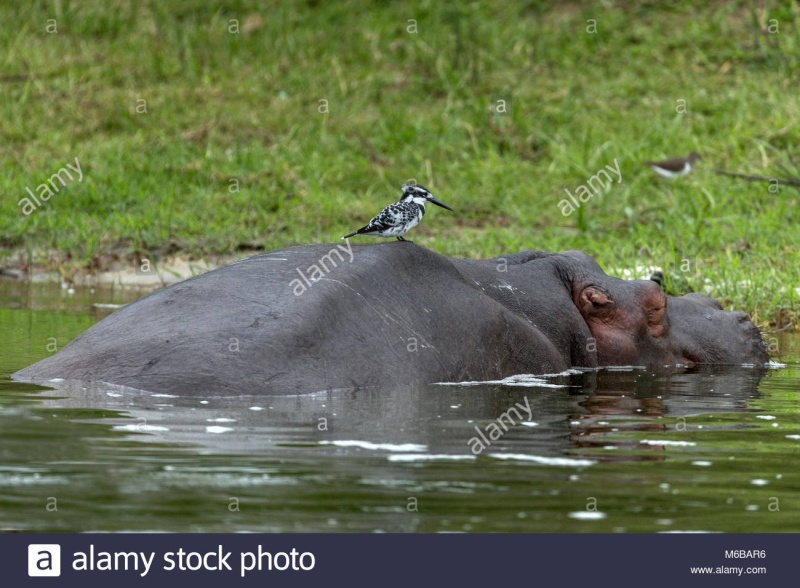hipopotamo: (17, 232, 774, 382)
